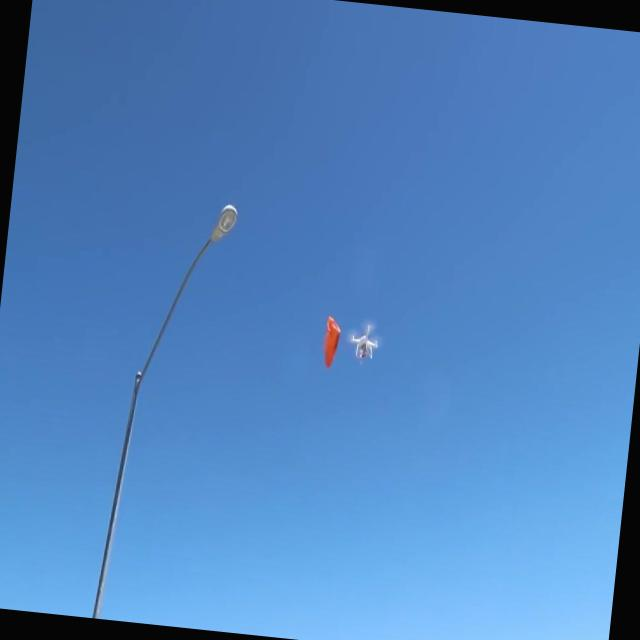drone: (347, 319, 382, 367)
